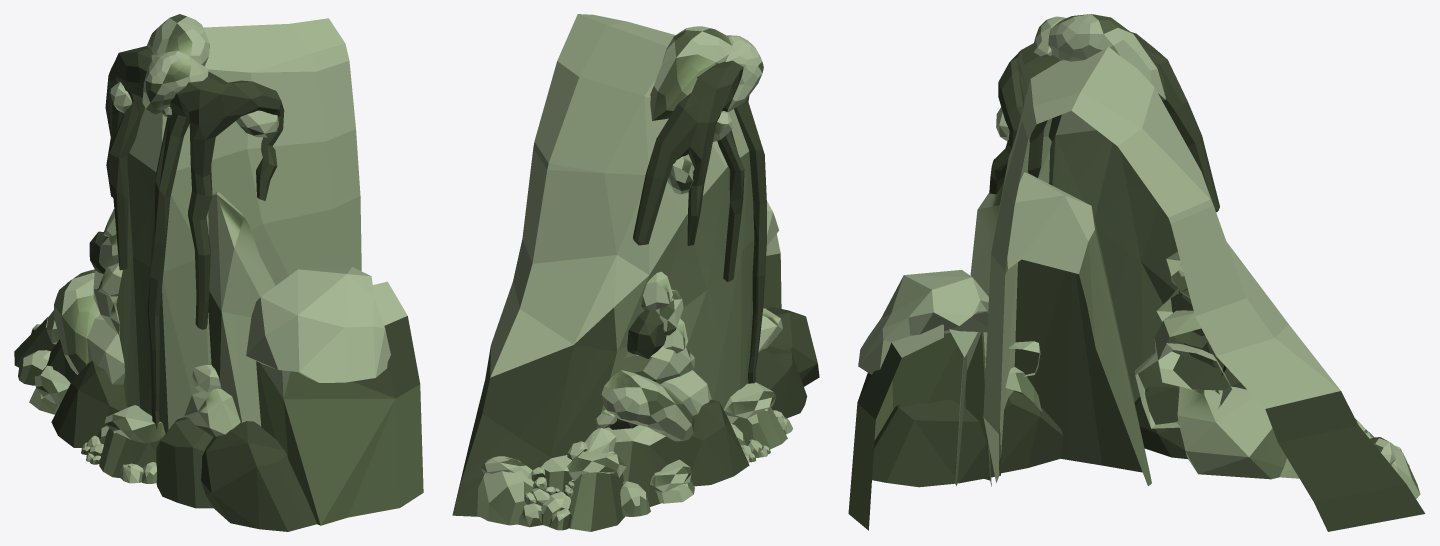
Rendered from EA_Swamp_Wall_03alt_01b.glb.
3 renders of one model, left to right at view 1: azimuth 30°, elevation 25°; view 2: azimuth 150°, elevation 25°; view 3: azimuth 270°, elevation 25°, orthographic. The views are drawn at different scales.
Visible parts, largest first — view 1: EA_Swamp_Wall_03alt_01b; view 2: EA_Swamp_Wall_03alt_01b; view 3: EA_Swamp_Wall_03alt_01b.
Boxes of the visible parts, bbox=[...] form: EA_Swamp_Wall_03alt_01b: bbox=[14, 14, 423, 531]; EA_Swamp_Wall_03alt_01b: bbox=[452, 14, 819, 531]; EA_Swamp_Wall_03alt_01b: bbox=[848, 14, 1425, 531].
Bounding box in the file's own units: 5.67 × 10.42 × 12.19.
1 material, 1 textured.
